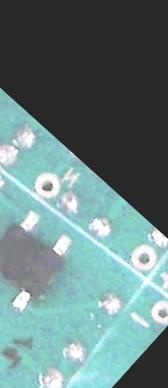ic: (0, 201, 85, 323)
